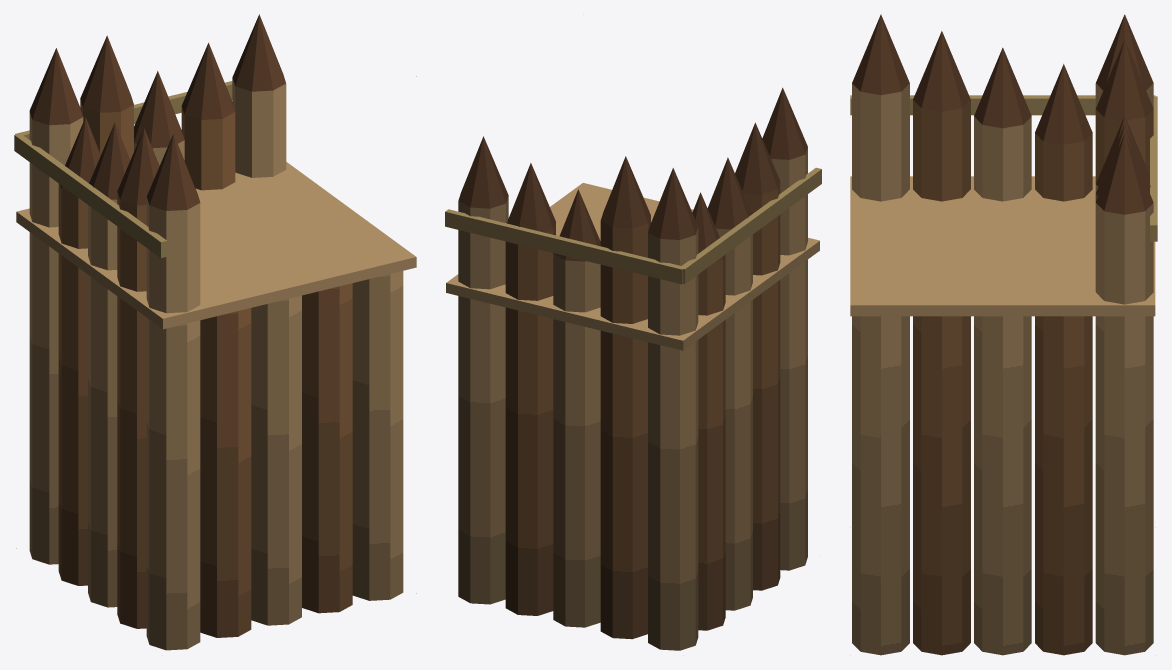
Rendered from perimeter_wall_wood_f6.glb.
3 views of the same model, side by side, from view 1: azimuth 30°, elevation 25°; view 2: azimuth 150°, elevation 25°; view 3: azimuth 270°, elevation 25° (orthographic). The views are drawn at different scales.
Bounding box in the file's own units: 2.01 × 3.9 × 2.01.
Materials: 1 (1 with a texture image).
